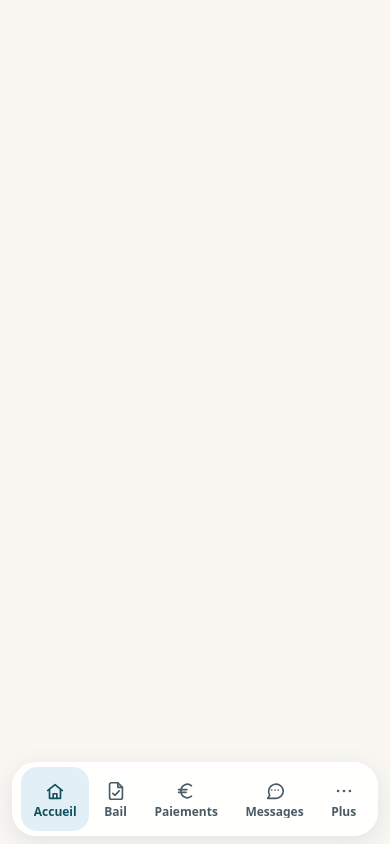
Test: the tenant's bottom bar › offers no sign-out without a session, and no owner's space without one
The image size is (390, 844).
Click the button "Plus" at (344, 799), box [318,767,369,831]
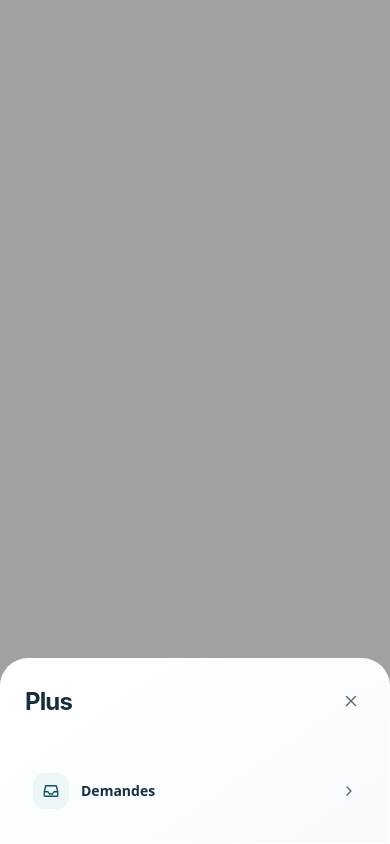
expect the dialog shows "Demandes": met, box [25,763,365,819]
